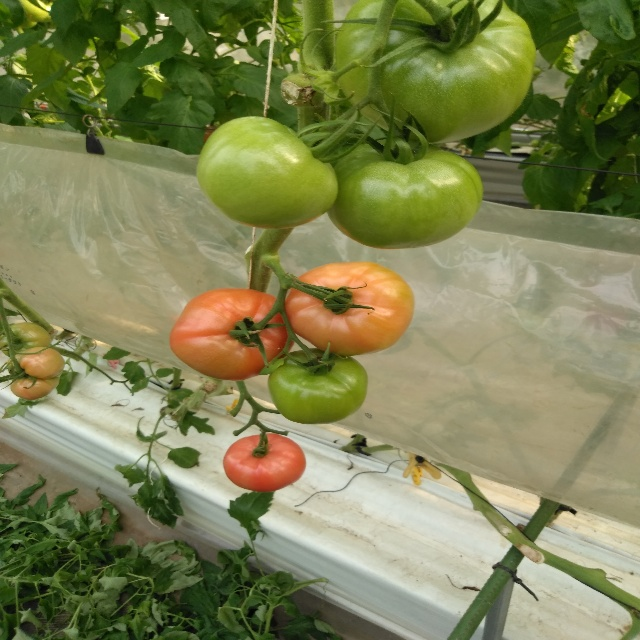b_fully_ripened: (223, 433, 306, 492)
b_green: (335, 1, 536, 144), (326, 139, 483, 250), (197, 115, 339, 230), (268, 347, 367, 424), (0, 323, 51, 359)
b_half_ripened: (284, 262, 414, 356), (169, 287, 297, 381), (6, 347, 65, 400)
